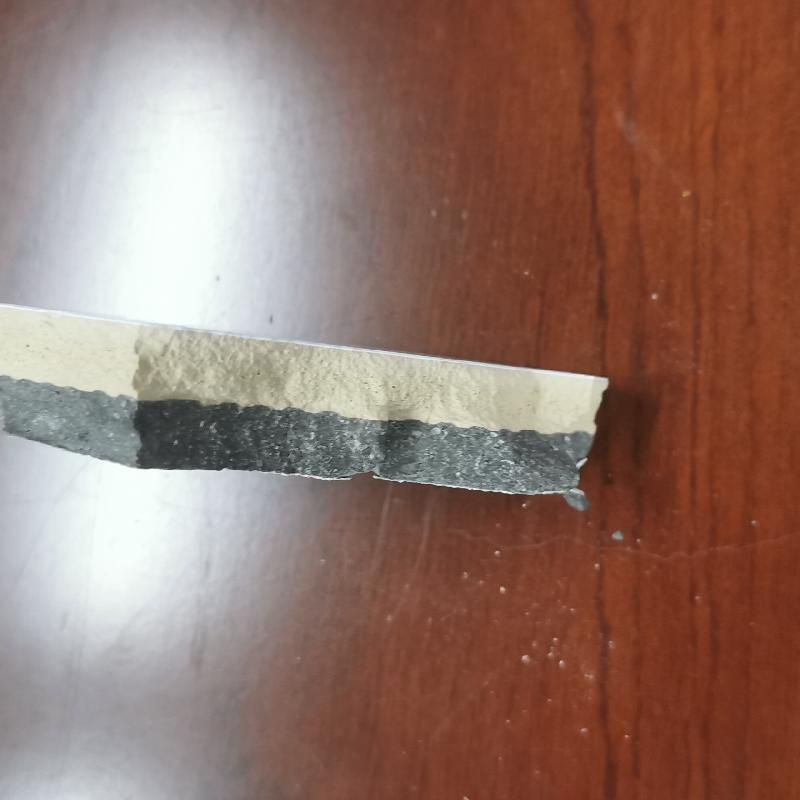tile: (1, 296, 613, 511)
